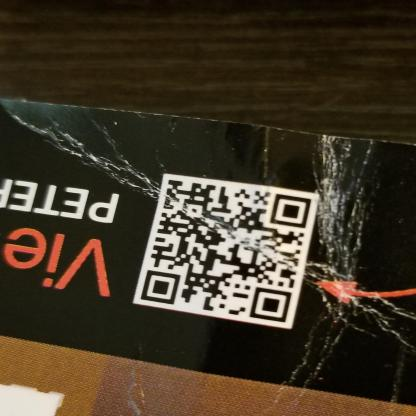qr: (137, 178, 323, 323)
